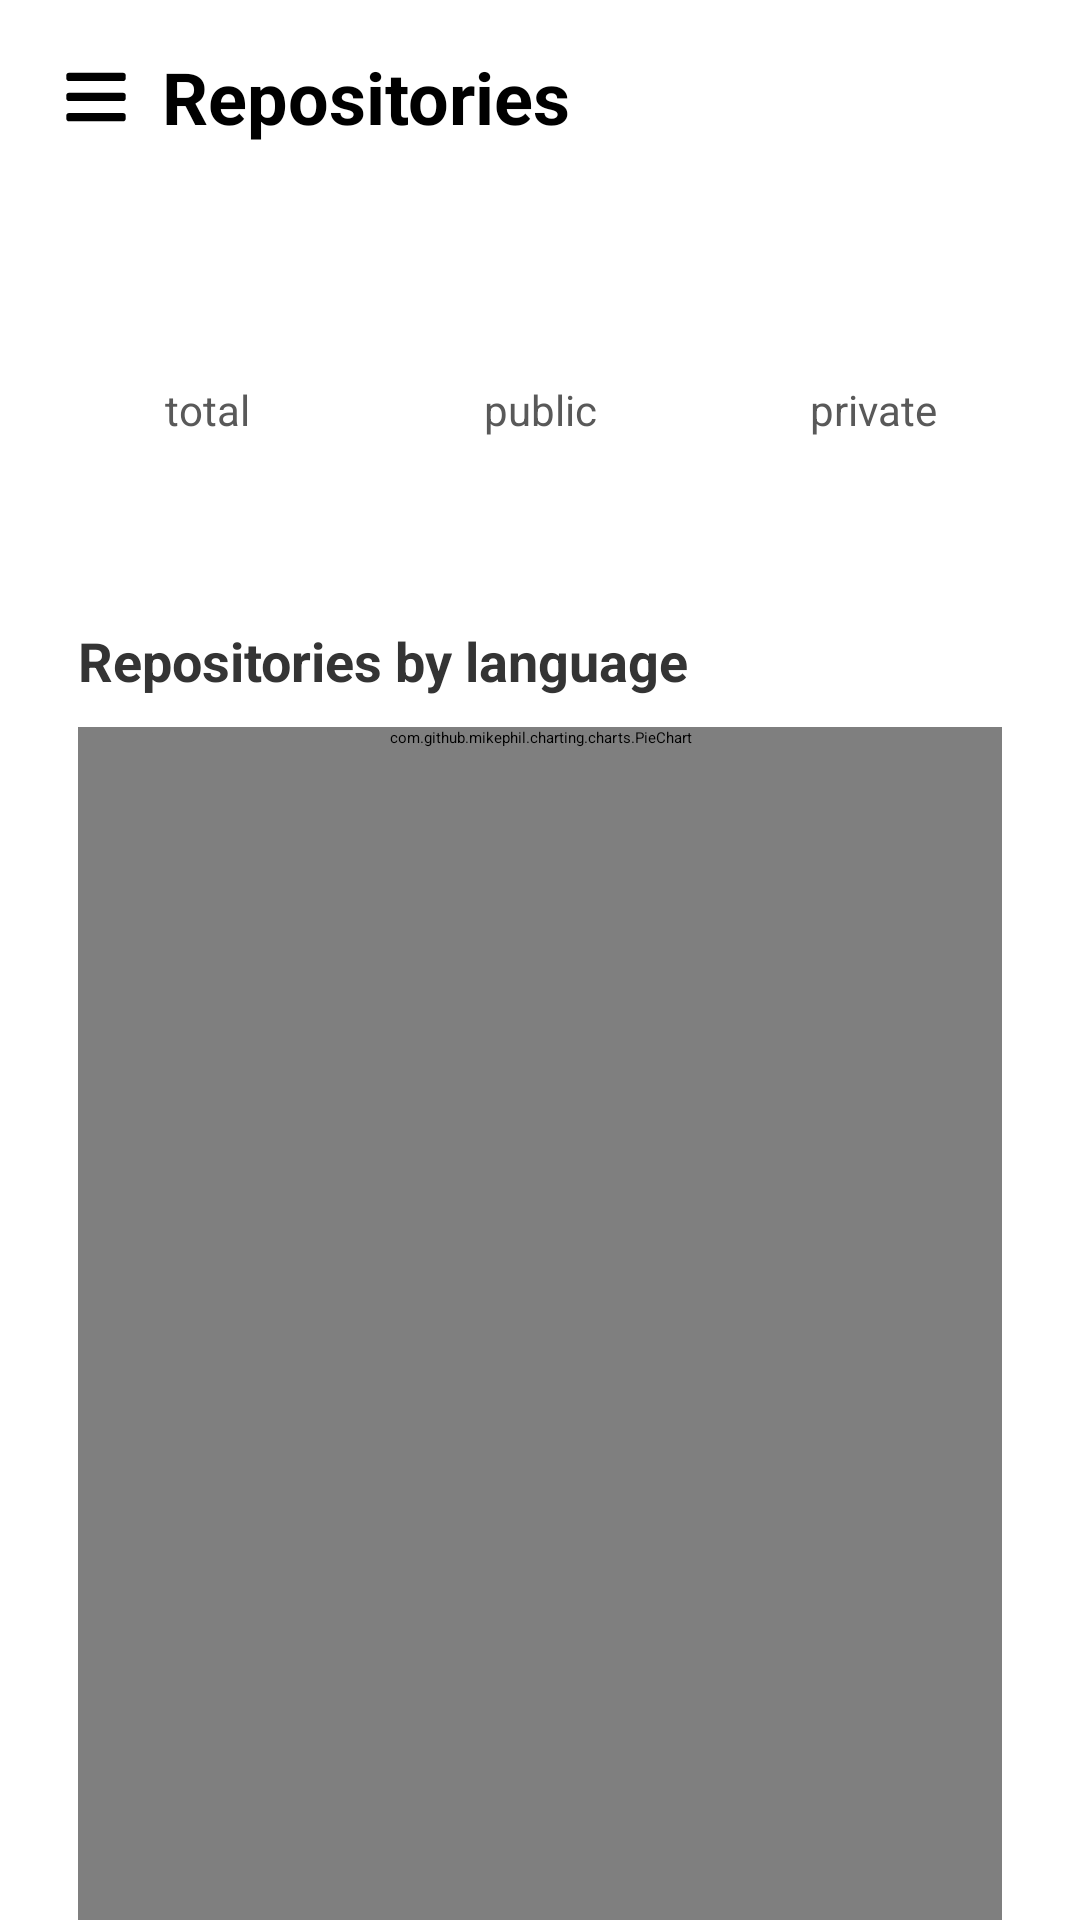

Icons on this 1080w x 1920h Android screen, each with its box as (x1, y1, x2, y2):
menu: (66, 72, 126, 122)
